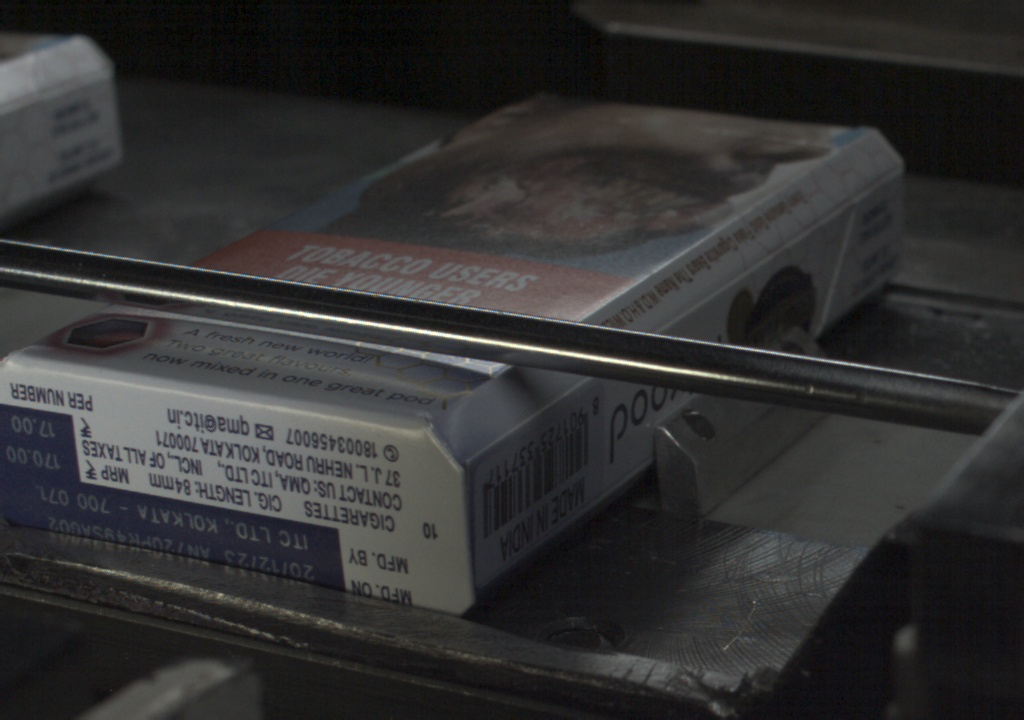g_bottom: (1, 366, 453, 614)
g_label: (1, 483, 344, 589)
g_lmiter: (660, 266, 755, 329), (758, 196, 845, 262), (463, 416, 528, 461), (529, 374, 588, 411)
g_miter: (851, 163, 900, 196)
price: (1, 411, 83, 482)
